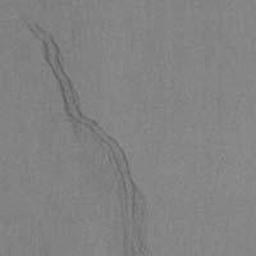Water spot: (19, 13, 151, 256)
